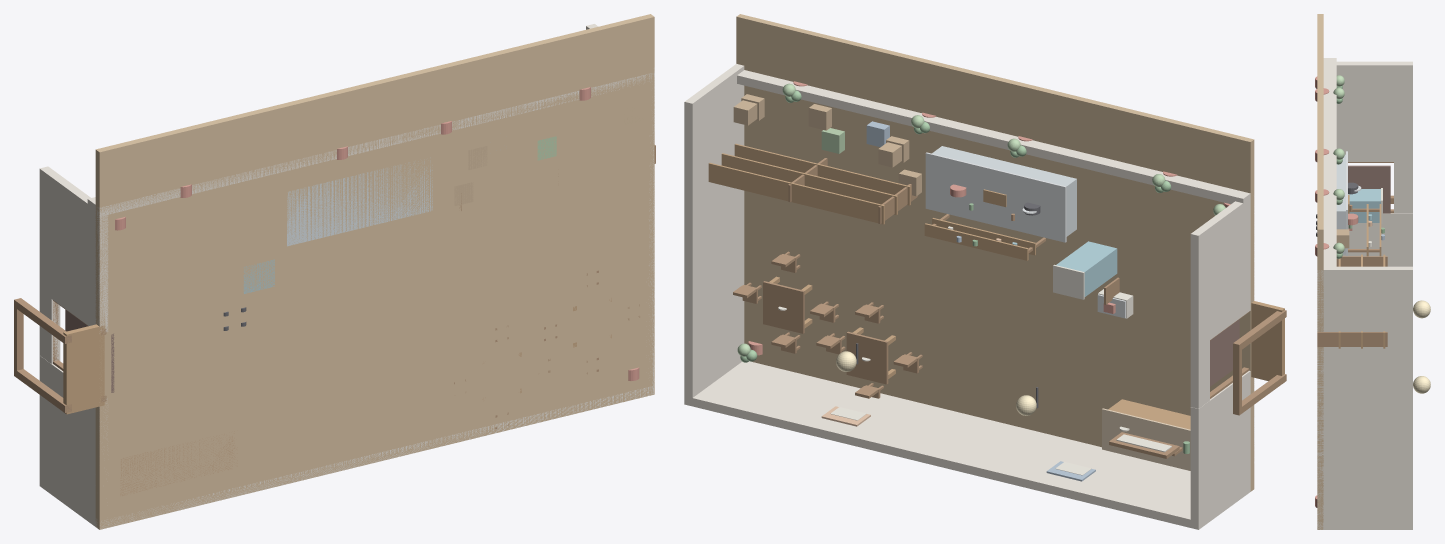
File: restaurant.glb
3 views of the same model, side by side, from view 1: azimuth 30°, elevation 25°; view 2: azimuth 150°, elevation 25°; view 3: azimuth 270°, elevation 25° (orthographic). The views are drawn at different scales.
Parts seen in each view (by area): view 1: Floor, Wall_Left_2, Kitchen_Base, Wall_Left_1, Wall_Front_Low, Wall_Back, Entry_Platform, Front_Counter, Wall_Lintel, Fridge, Entry_Arch_R, Entry_Arch_L; view 2: Floor, Wall_Back, Wall_Right, Kitchen_Top, Wall_Front_Low, Wall_Left_2, Wall_Left_1, Front_Counter_Top, Entry_Platform, Kitchen_Base, Shelf_11.8_6.6_B2, Table_14.2_2.4_Top (+13 smaller); view 3: Wall_Right, Wall_Left_2, Floor, Wall_Front_Low, Wall_Left_1, Door_Panel, Shelf_14.6_6.6_R, Wall_Lintel, Fridge, Wall_Back, Kitchen_Base, Shelf_11.8_6.6_L (+6 smaller).
Part boxes in pixels (box(x1,y1,x2,y2)): Floor: box(95, 14, 654, 529); Wall_Left_2: box(39, 166, 108, 333); Kitchen_Base: box(287, 157, 432, 246); Wall_Left_1: box(39, 356, 107, 517); Wall_Front_Low: box(87, 72, 654, 216); Wall_Back: box(39, 386, 653, 529); Entry_Platform: box(63, 324, 104, 414); Front_Counter: box(120, 431, 237, 495); Wall_Lintel: box(39, 290, 60, 363); Fridge: box(243, 259, 274, 293); Entry_Arch_R: box(17, 300, 71, 343); Entry_Arch_L: box(17, 369, 71, 412); Floor: box(736, 14, 1254, 491); Wall_Back: box(684, 361, 1250, 529); Wall_Right: box(684, 64, 744, 406); Kitchen_Top: box(925, 152, 1066, 242); Wall_Front_Low: box(737, 70, 1250, 206); Wall_Left_2: box(1190, 200, 1254, 348); Wall_Left_1: box(1190, 370, 1254, 521); Front_Counter_Top: box(1102, 408, 1190, 470); Entry_Platform: box(1251, 301, 1284, 380); Kitchen_Base: box(932, 146, 1076, 236); Shelf_11.8_6.6_B2: box(787, 182, 884, 224); Table_14.2_2.4_Top: box(763, 281, 804, 333); Wall_Right: box(1317, 266, 1412, 529); Wall_Left_2: box(1336, 61, 1412, 161); Floor: box(1317, 14, 1323, 529); Wall_Front_Low: box(1317, 58, 1336, 280); Wall_Left_1: box(1342, 213, 1412, 266); Door_Panel: box(1348, 165, 1390, 213); Shelf_14.6_6.6_R: box(1317, 332, 1387, 346); Wall_Lintel: box(1394, 161, 1412, 213); Fridge: box(1348, 189, 1380, 222); Wall_Back: box(1317, 522, 1412, 529); Kitchen_Base: box(1336, 154, 1345, 254); Shelf_11.8_6.6_L: box(1336, 256, 1387, 266).
Size of the model in its own units: 17.1 by 10.4 by 3.63.
